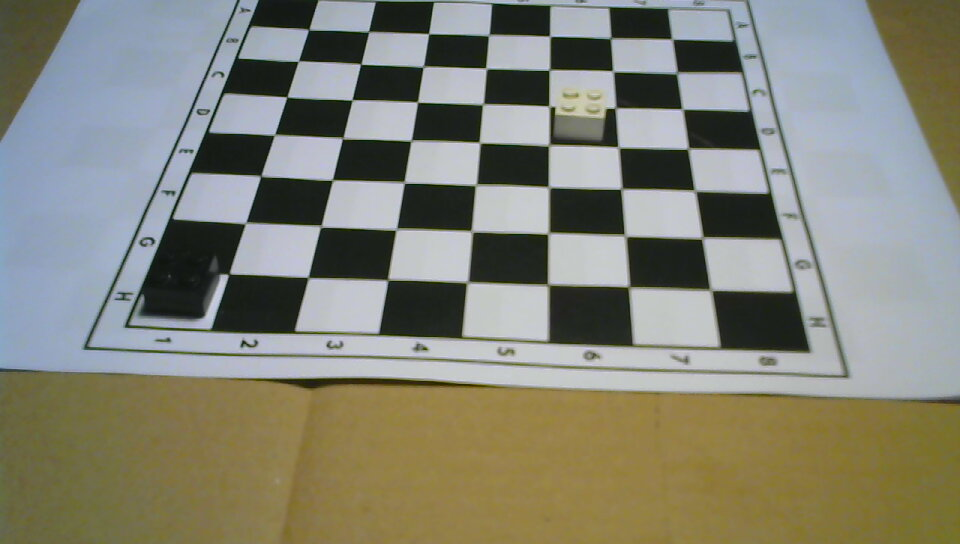bp: (147, 248, 216, 320)
wp: (553, 84, 607, 145)
